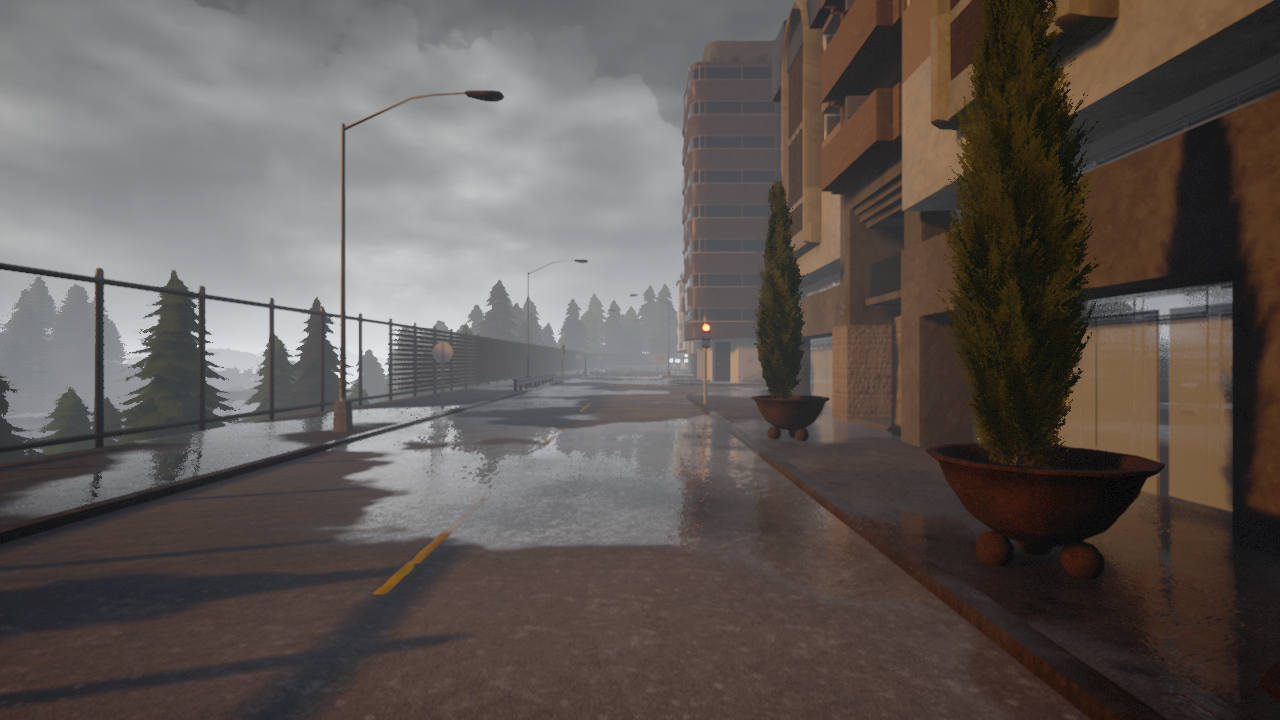red: (700, 321, 711, 351)
